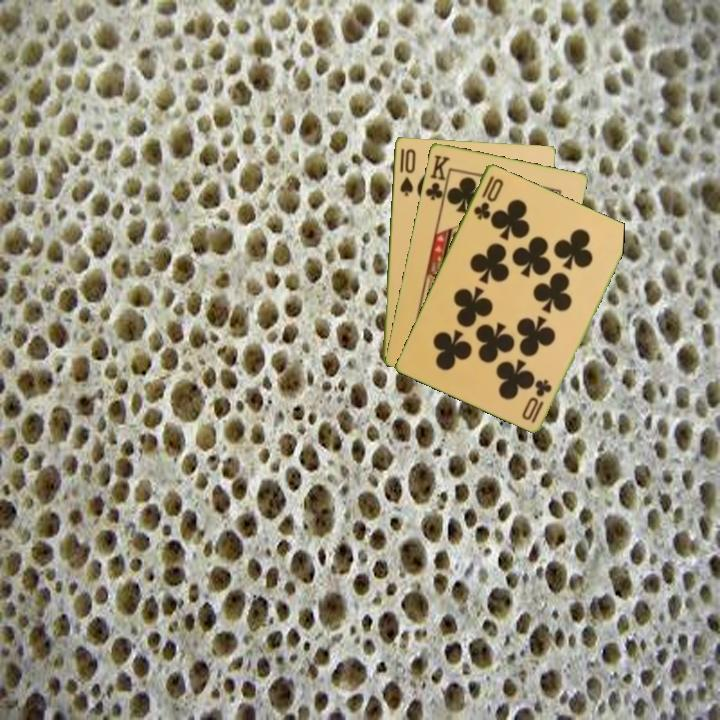10c: (470, 171, 506, 222), (527, 375, 555, 426)
10s: (396, 145, 418, 199)
Kc: (421, 151, 453, 207)
